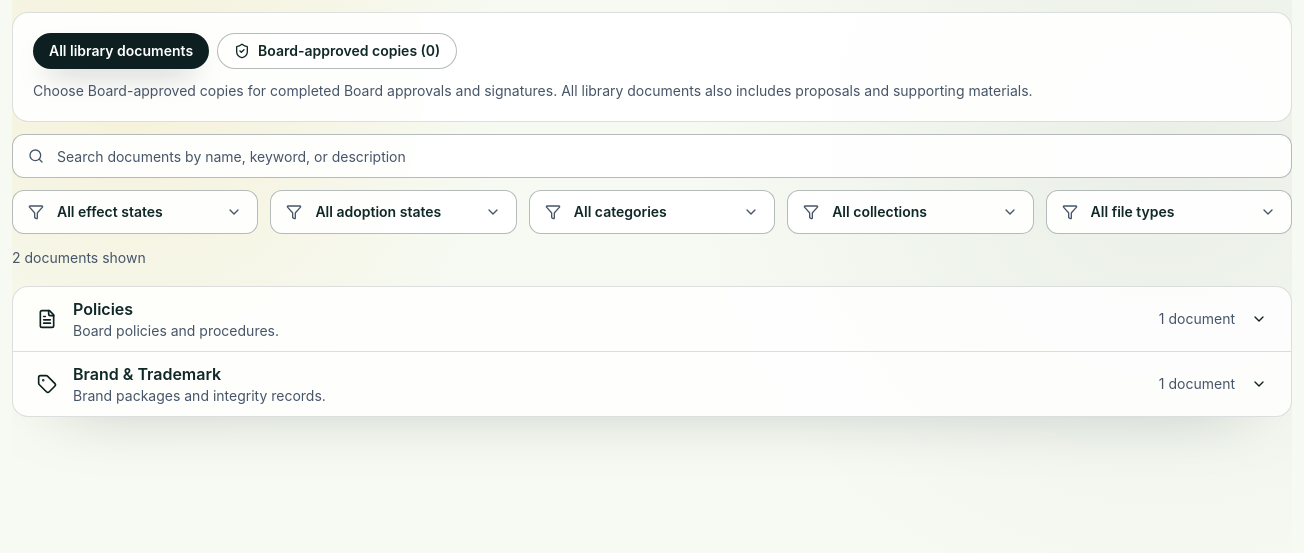
Test: DocumentLibrary › searches across folders and filters by category
In the search field labelled "Search documents": (652, 156) [12, 134, 1292, 178], type "conflict"
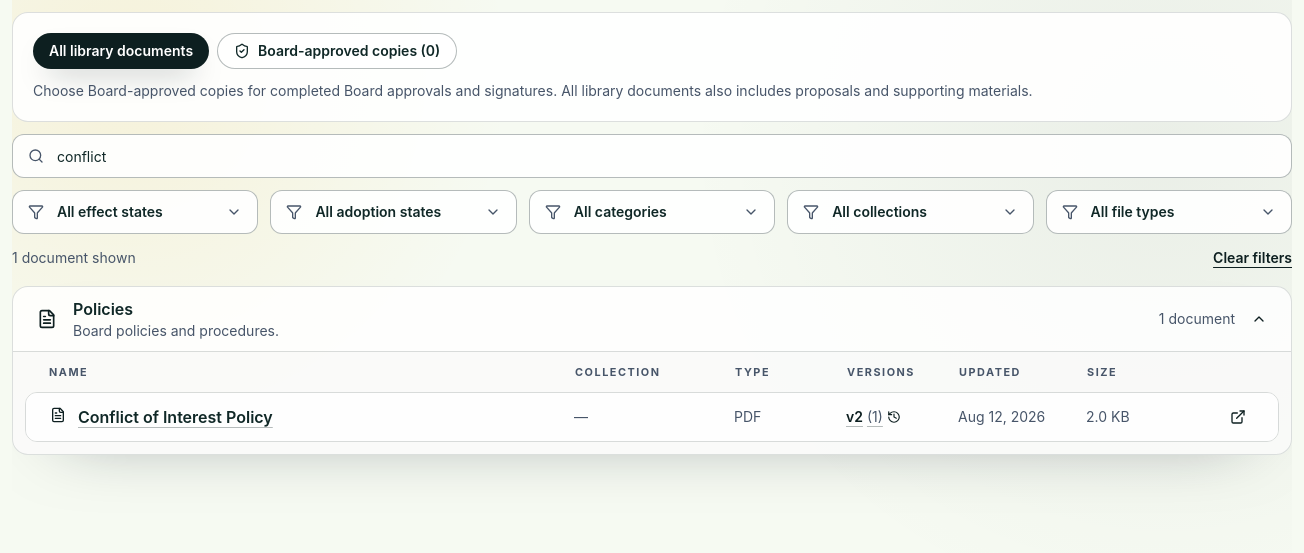
Check: the button "Policies Board policies and procedures. 1 document" is shown, box [13, 287, 1291, 351]
Check: the button "Brand & Trademark" is gone
Clear the search field named "Search documents": (652, 156) [12, 134, 1292, 178]
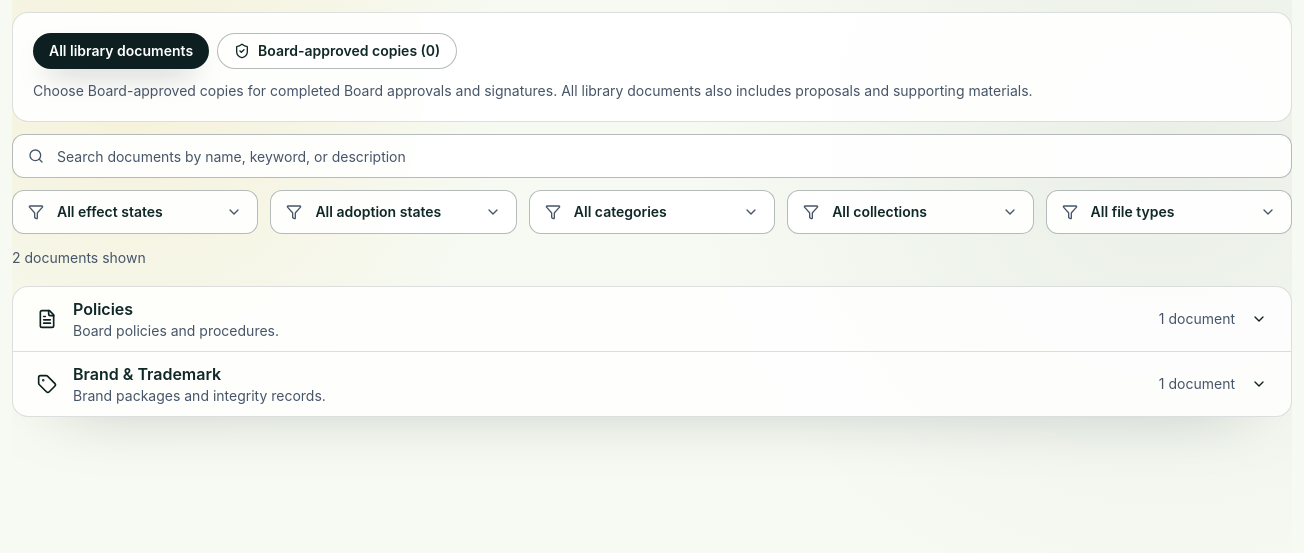
Select "Brand & Trademark" in the 3rd dropdown named "Filter by category": (652, 212) [529, 190, 775, 234]
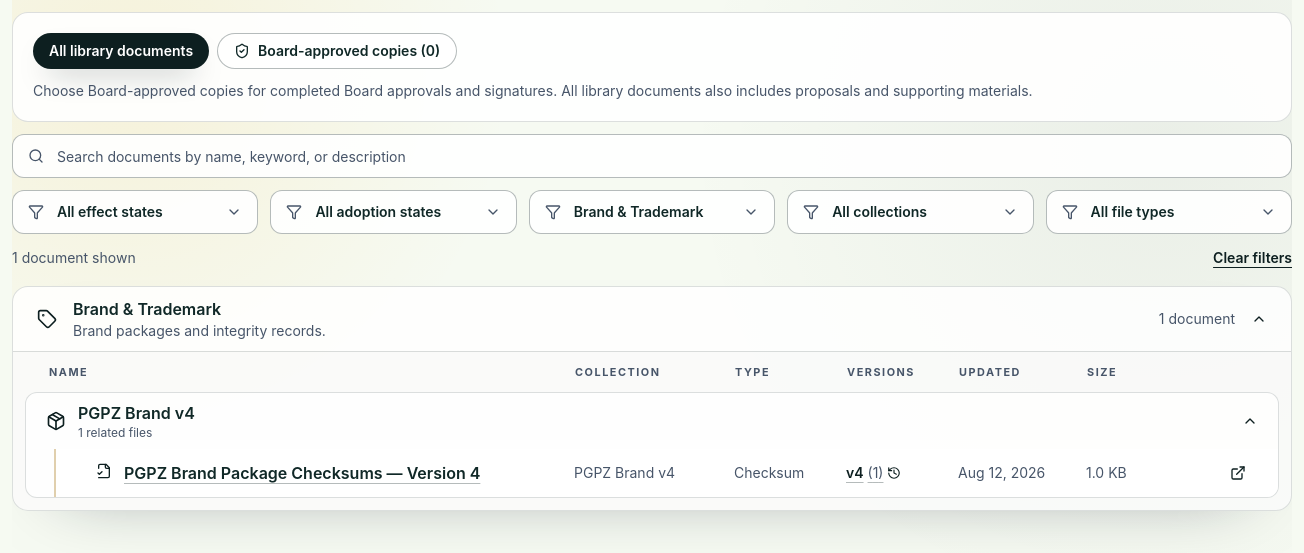
Check: the button "Brand & Trademark" is shown, box [13, 287, 1291, 351]
Check: the button "Policies" is gone
